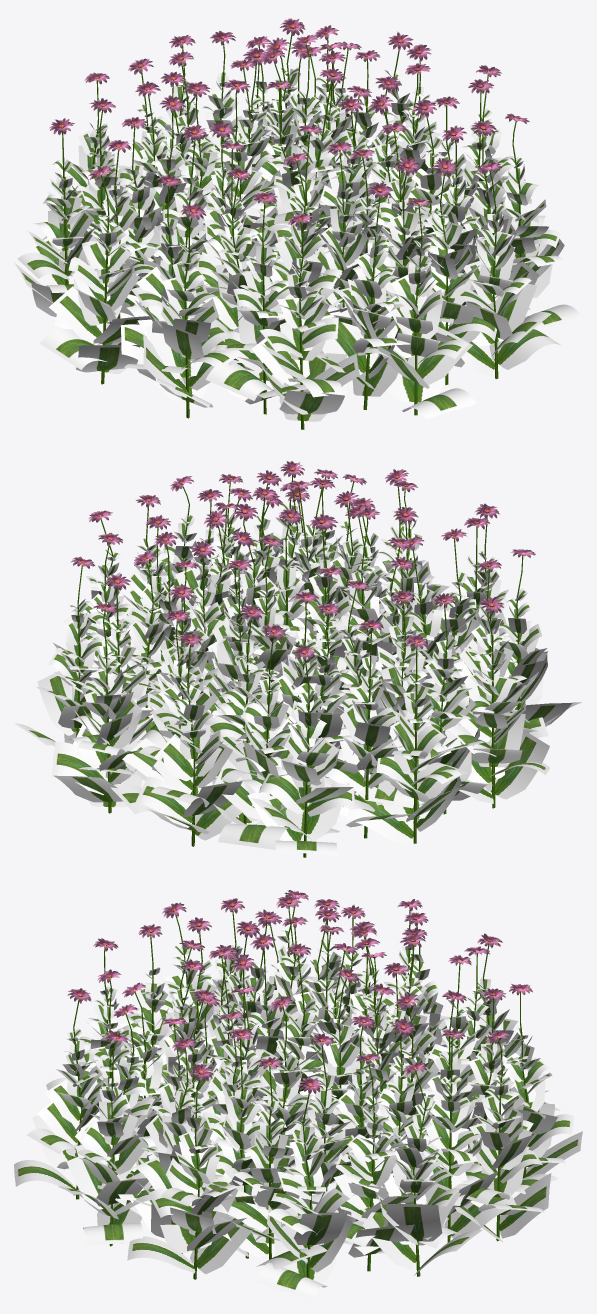
Rendered from pink flower.glb.
3 views of the same model, one above another, from view 1: azimuth 30°, elevation 25°; view 2: azimuth 150°, elevation 25°; view 3: azimuth 270°, elevation 25° (orthographic). The views are drawn at different scales.
Visible parts, largest first — view 1: Leaf_2.002_0, Pink_Petal_2, Stem_2.002_3, Pink_Cap_Base_1; view 2: Leaf_2.002_0, Pink_Petal_2, Stem_2.002_3, Pink_Cap_Base_1; view 3: Leaf_2.002_0, Pink_Petal_2, Stem_2.002_3, Pink_Cap_Base_1.
Part boxes in pixels (bbox=[...]): Leaf_2.002_0: bbox=[14, 66, 582, 421]; Pink_Petal_2: bbox=[49, 18, 529, 226]; Stem_2.002_3: bbox=[60, 26, 521, 429]; Pink_Cap_Base_1: bbox=[59, 24, 491, 219]; Leaf_2.002_0: bbox=[14, 502, 581, 855]; Pink_Petal_2: bbox=[70, 461, 535, 660]; Stem_2.002_3: bbox=[76, 468, 523, 857]; Pink_Cap_Base_1: bbox=[80, 466, 522, 653]; Leaf_2.002_0: bbox=[14, 930, 582, 1299]; Pink_Petal_2: bbox=[67, 890, 532, 1094]; Stem_2.002_3: bbox=[73, 896, 528, 1279]; Pink_Cap_Base_1: bbox=[77, 894, 523, 1086].
Bounding box in the file's own units: 1.81 × 1.03 × 1.79.
4 materials, 4 textured.
